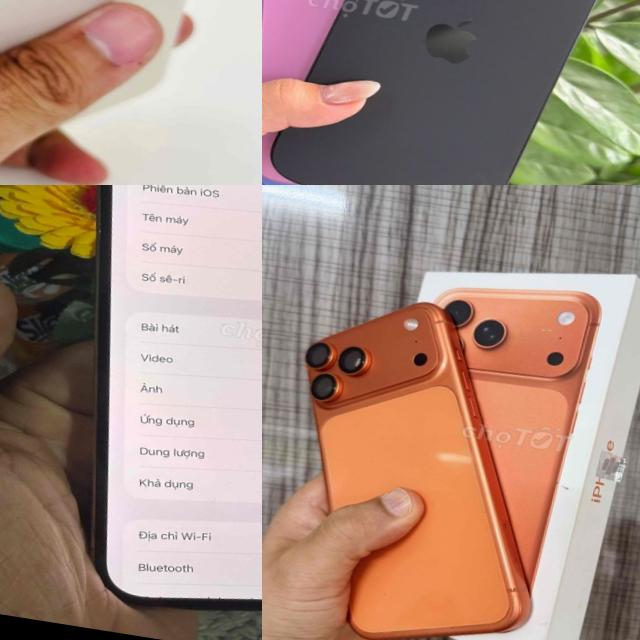gen_12_13: (22, 185, 262, 640)
gen_16: (262, 0, 640, 185)
gen_17: (262, 283, 583, 640)
gen_7_8: (0, 0, 254, 144)
